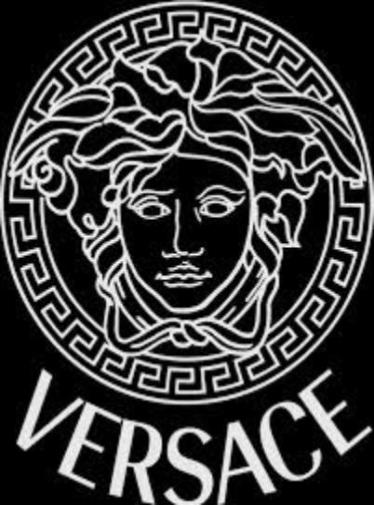VERSACE: (12, 3, 374, 493)
